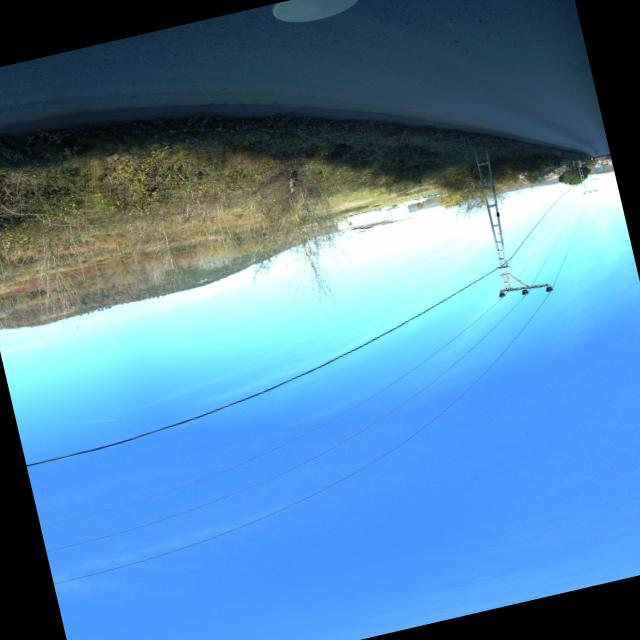Utility Pole Information Plate: (495, 211, 498, 215), (579, 166, 581, 167)
